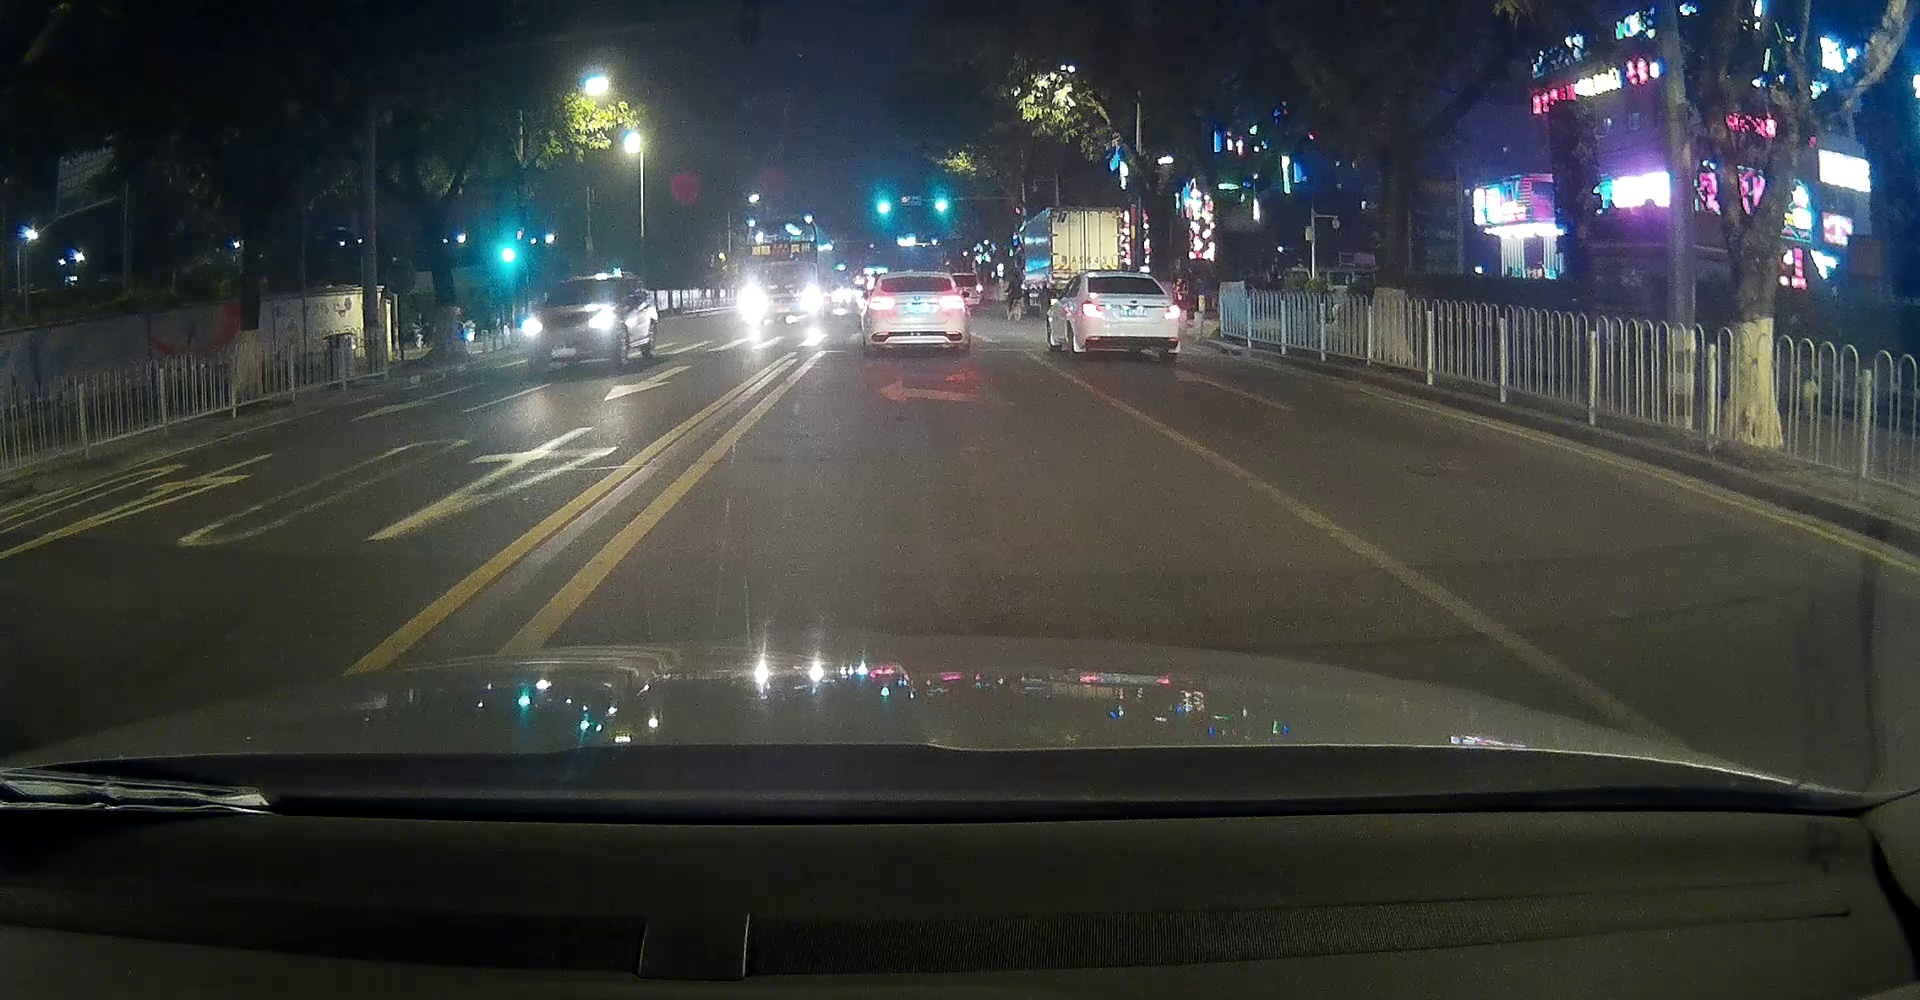L_light: (1081, 301, 1103, 319), (867, 296, 895, 310)
R_light: (938, 294, 964, 308), (1163, 305, 1178, 319)
T_light: (909, 277, 922, 280), (1116, 277, 1128, 280)
night-no: (1079, 272, 1178, 363), (866, 272, 970, 355)
